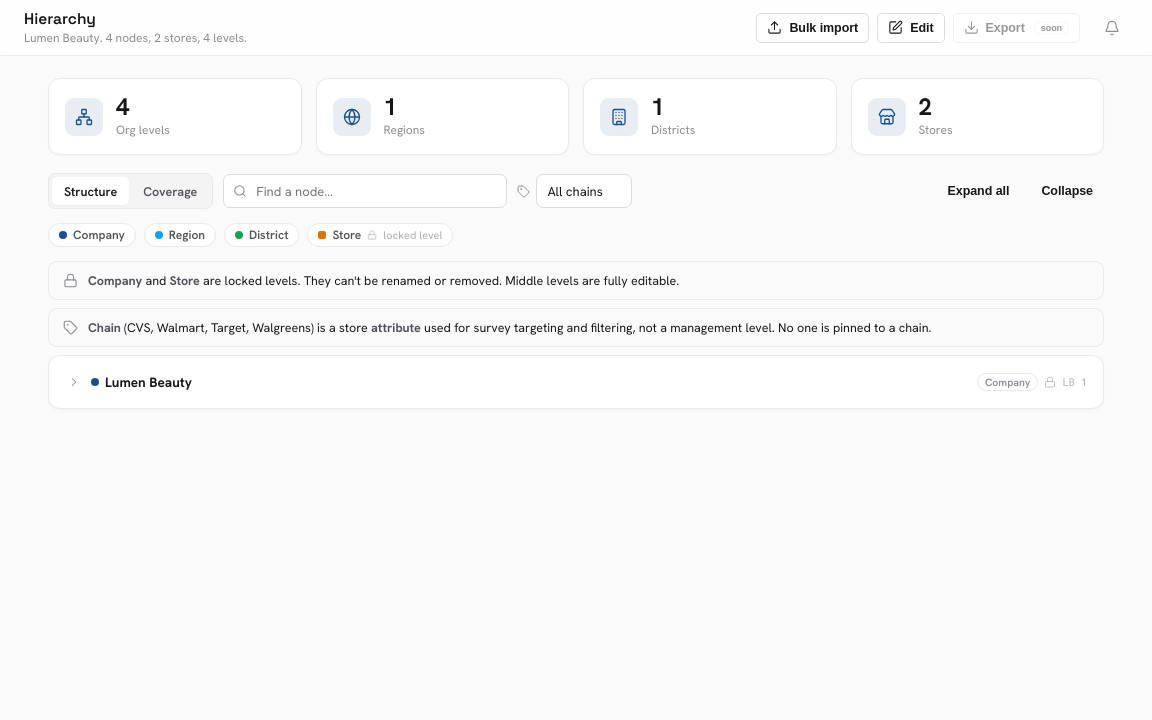
Test: Hierarchy edit mode › store rows get a rename + delete action but NO add-child (a store is a leaf)
Expected: the text "Lumen Beauty" is shown, [105,373,192,391]
Click the button "Edit" at (911, 28), box [877,12,945,42]
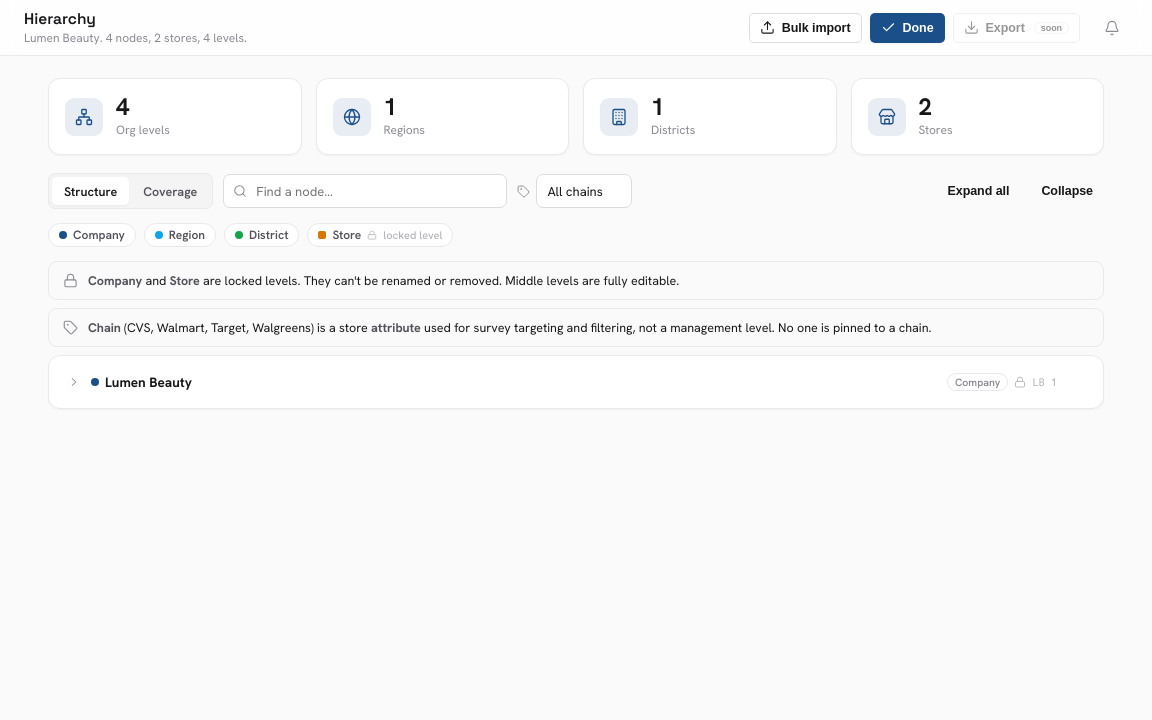
Click the button "Expand all" at (978, 191), box [936,176,1020,206]
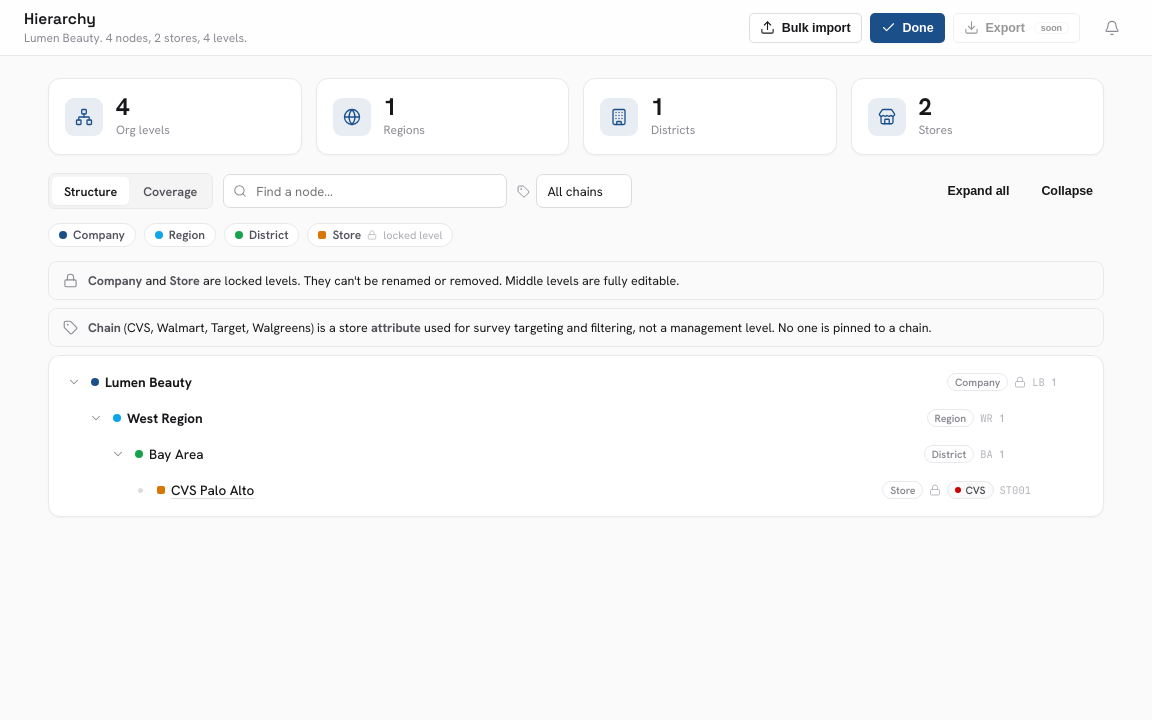
Expected: the button "CVS Palo Alto" is shown, [171,481,876,499]
